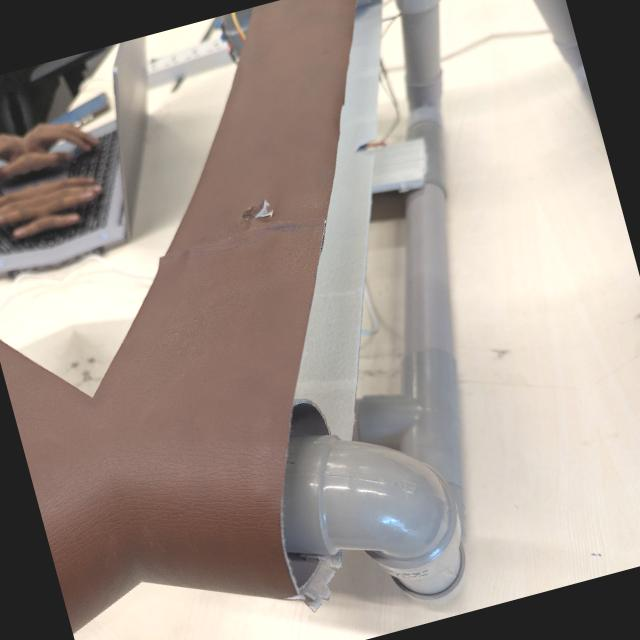joint_damage: (231, 180, 303, 244), (241, 187, 291, 237)
